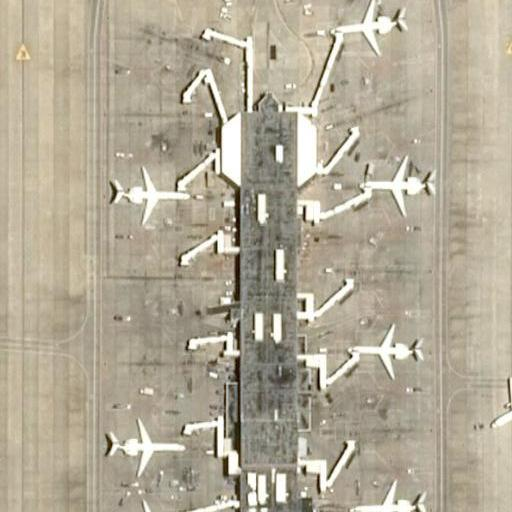Aircraft: (105, 164, 191, 225), (356, 150, 436, 213), (104, 418, 189, 475), (346, 317, 421, 380), (330, 0, 405, 53), (346, 475, 434, 512), (106, 498, 196, 512)
